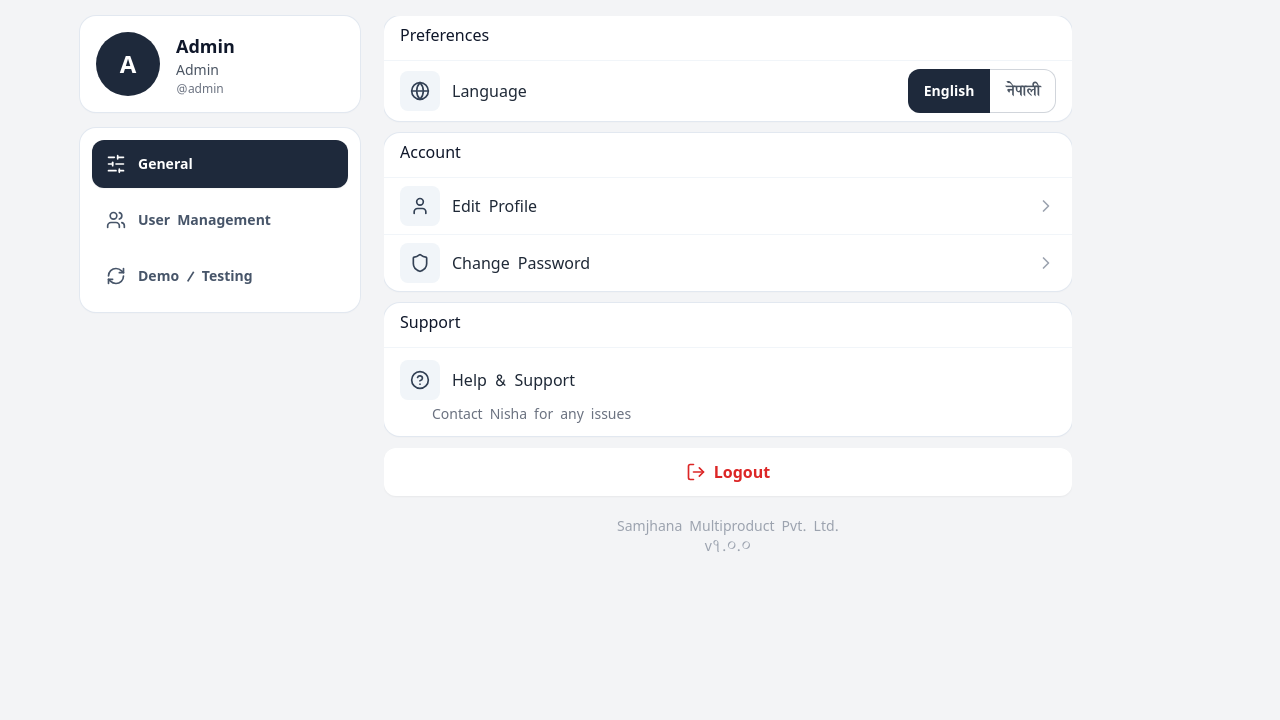
SettingsPage demo reset › shows the reset button where the server offers it
Click the button "Demo / Testing": {"x": 220, "y": 276} [92, 252, 348, 300]
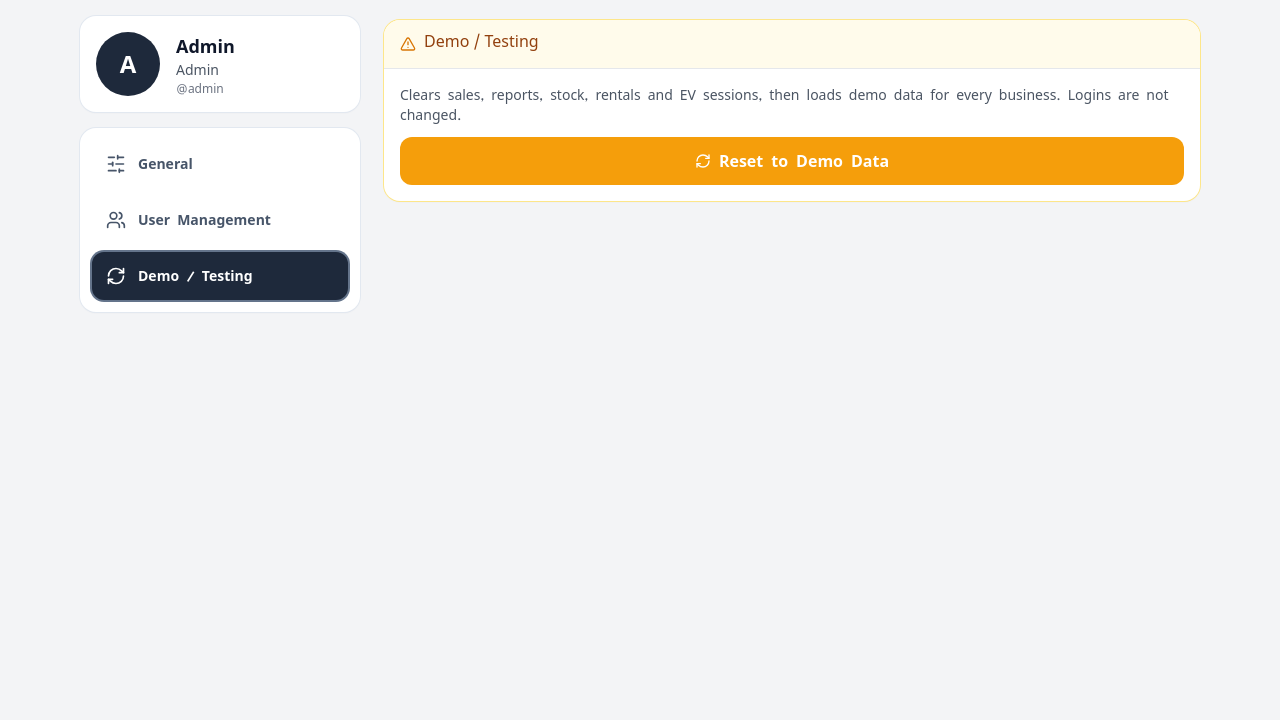
Expected: the button "Reset to Demo Data" is shown, [400, 137, 1184, 185]
